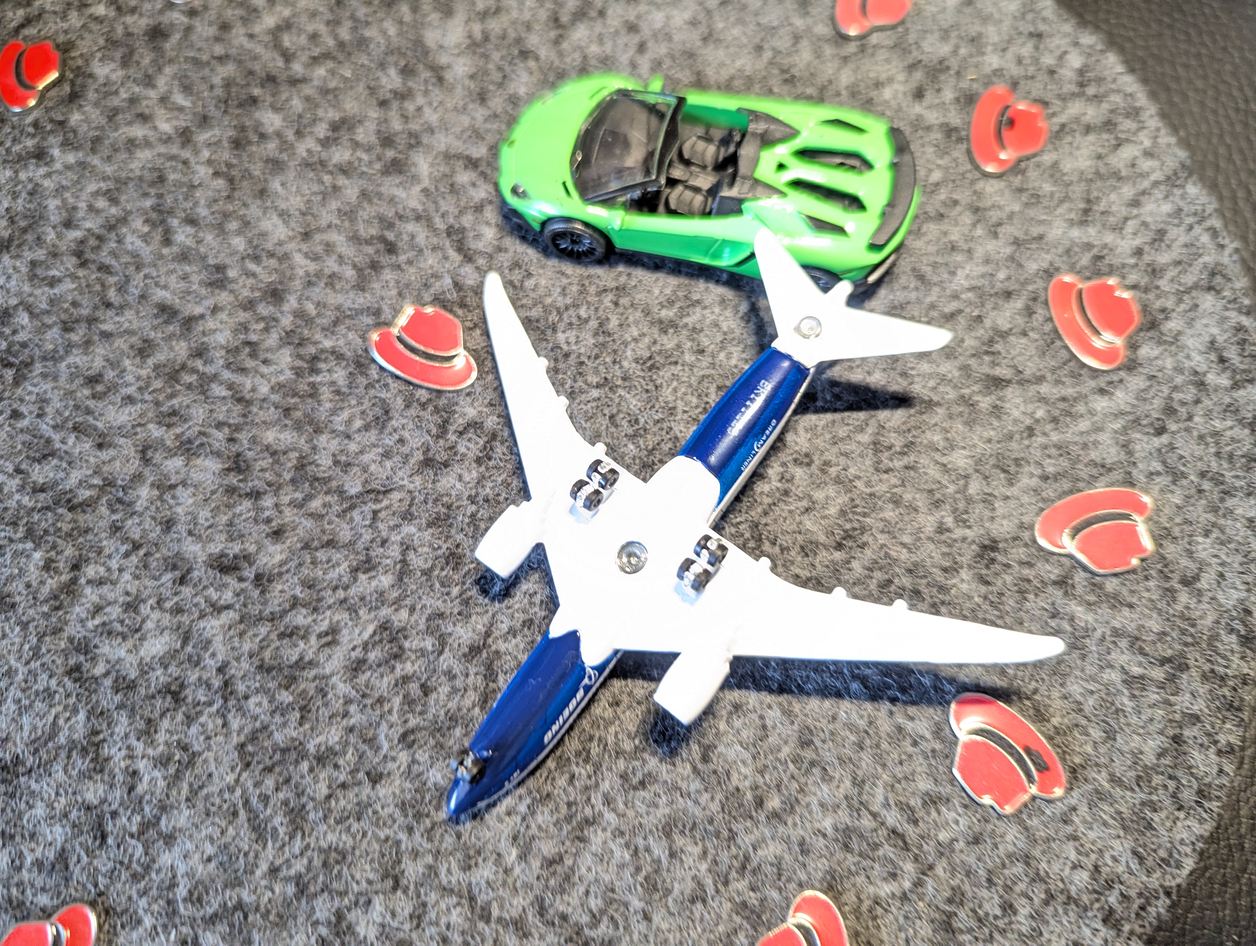Airplane: (436, 198, 1073, 894)
Car: (469, 53, 951, 343)
Red-Hat: (937, 677, 1094, 838), (1024, 254, 1154, 394), (1021, 479, 1180, 593), (951, 59, 1086, 187), (350, 294, 492, 405), (742, 870, 869, 946), (0, 14, 65, 121), (0, 889, 112, 946), (831, 0, 941, 50)
Scratch: (1011, 727, 1059, 790), (997, 107, 1027, 139)
